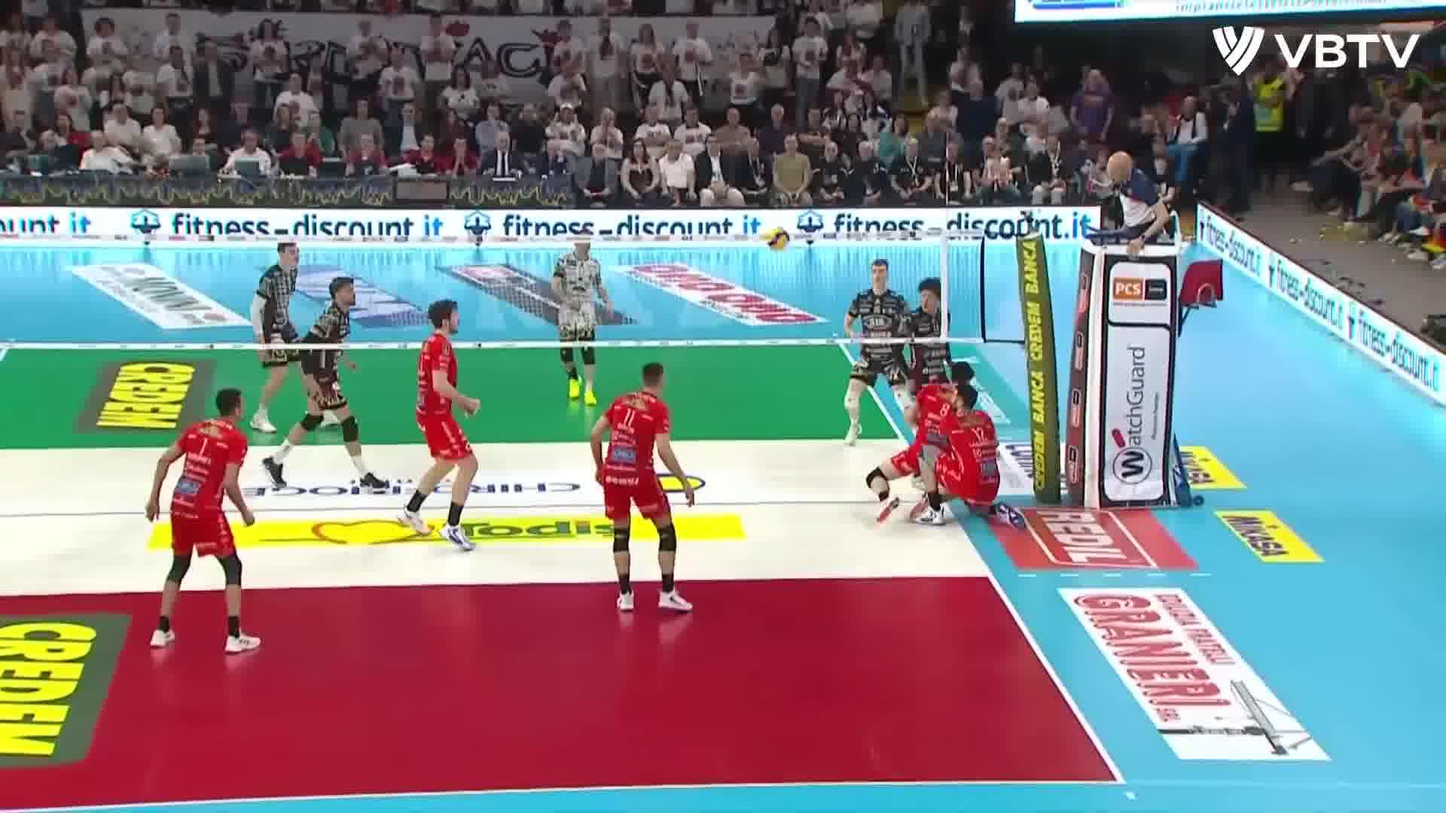balls: (766, 226, 791, 251)
